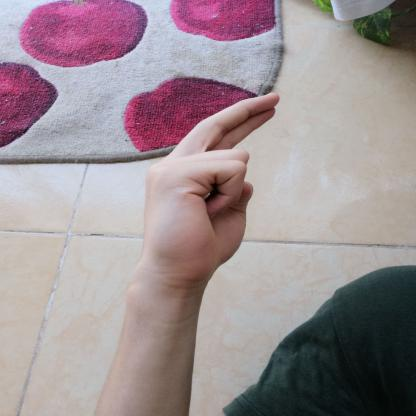ZAY: (126, 83, 294, 293)
